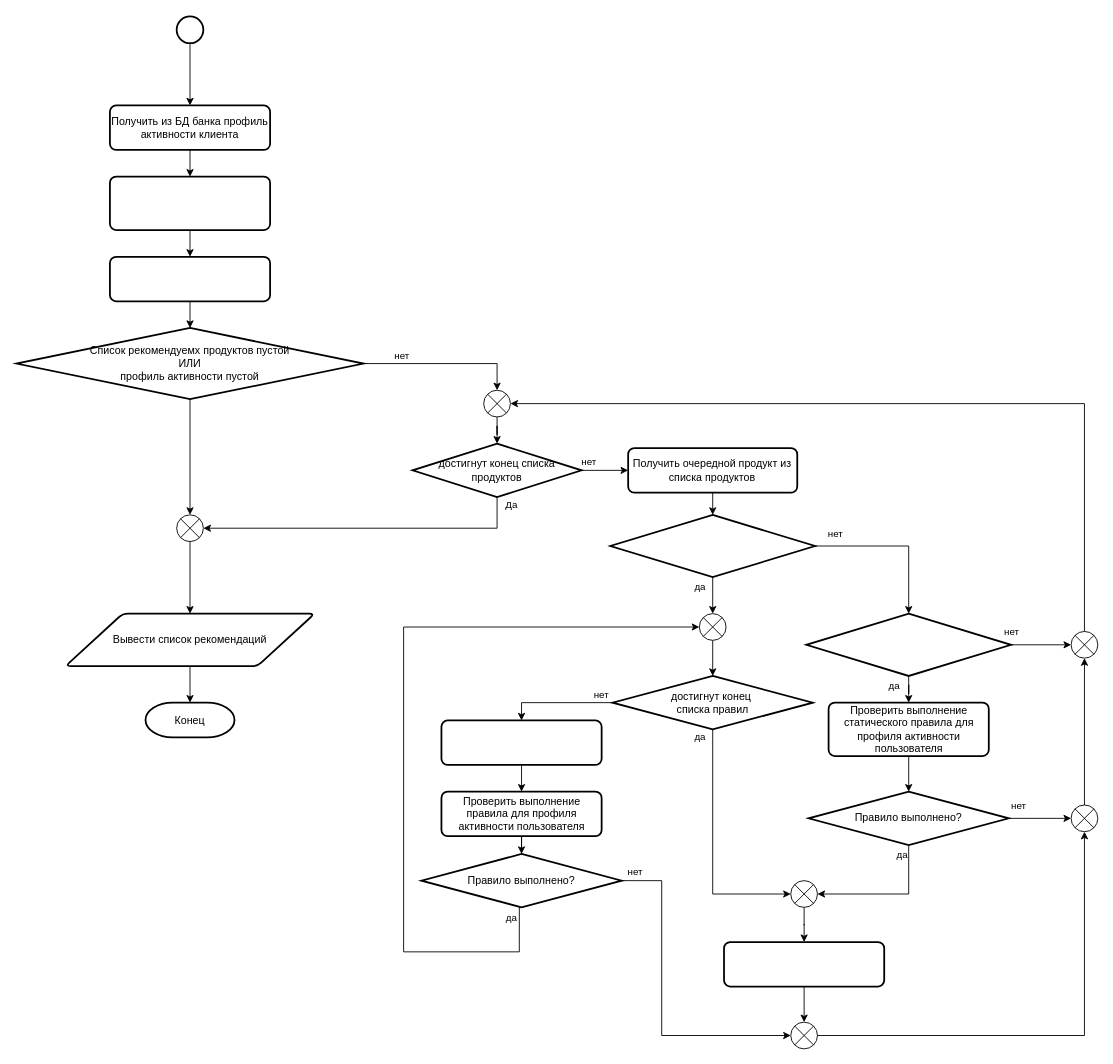
This 1113x1064 diagram has some shape labels left out. The shapes that lost their labels are listed below. From the top down, each one's centre as x and y in pixels, then its label:
(x=190, y=203): Получить из БД приложения список рекомендуемых продуктов с правилами
(x=190, y=278): Подготовить пустой список рекомендаций
(x=712, y=546): У продукта есть непустой список правил
(x=908, y=644): Для продукта задано статическое правило
(x=521, y=742): Получить очередное правило из списка правил
(x=804, y=964): Добавить продукт в список рекомендаций
